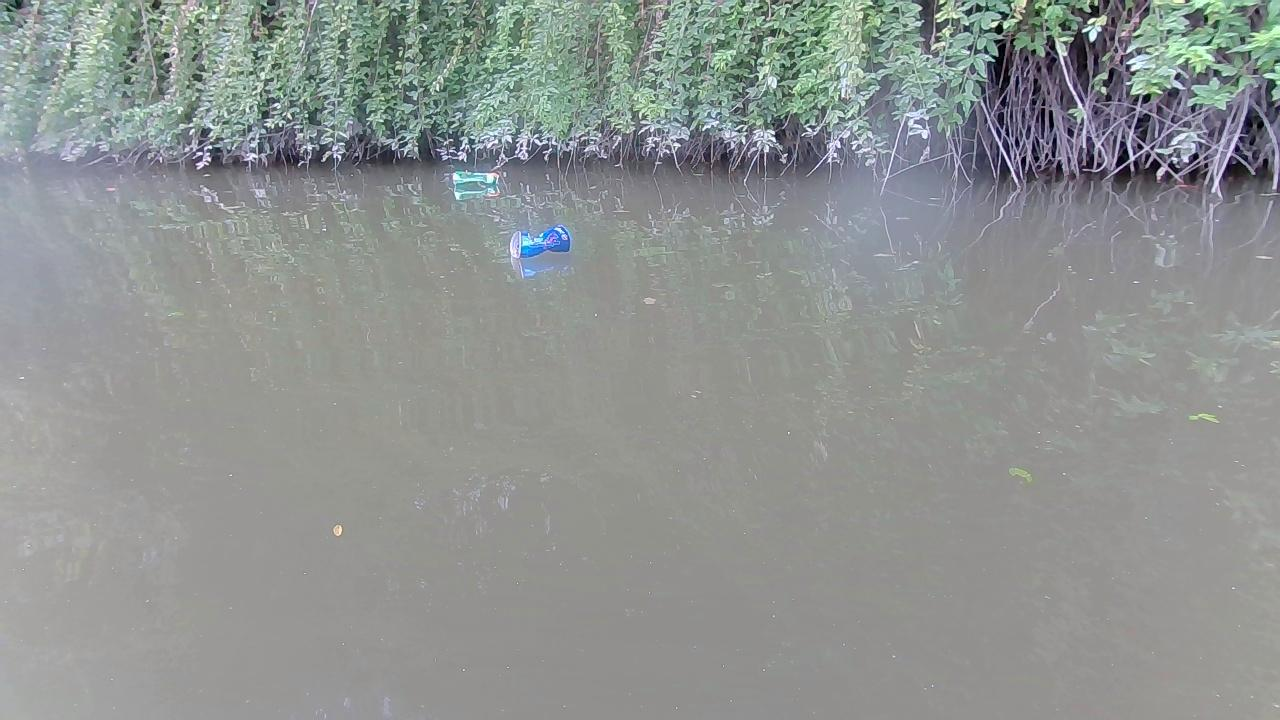Metal: (509, 223, 572, 260), (450, 170, 501, 192)
